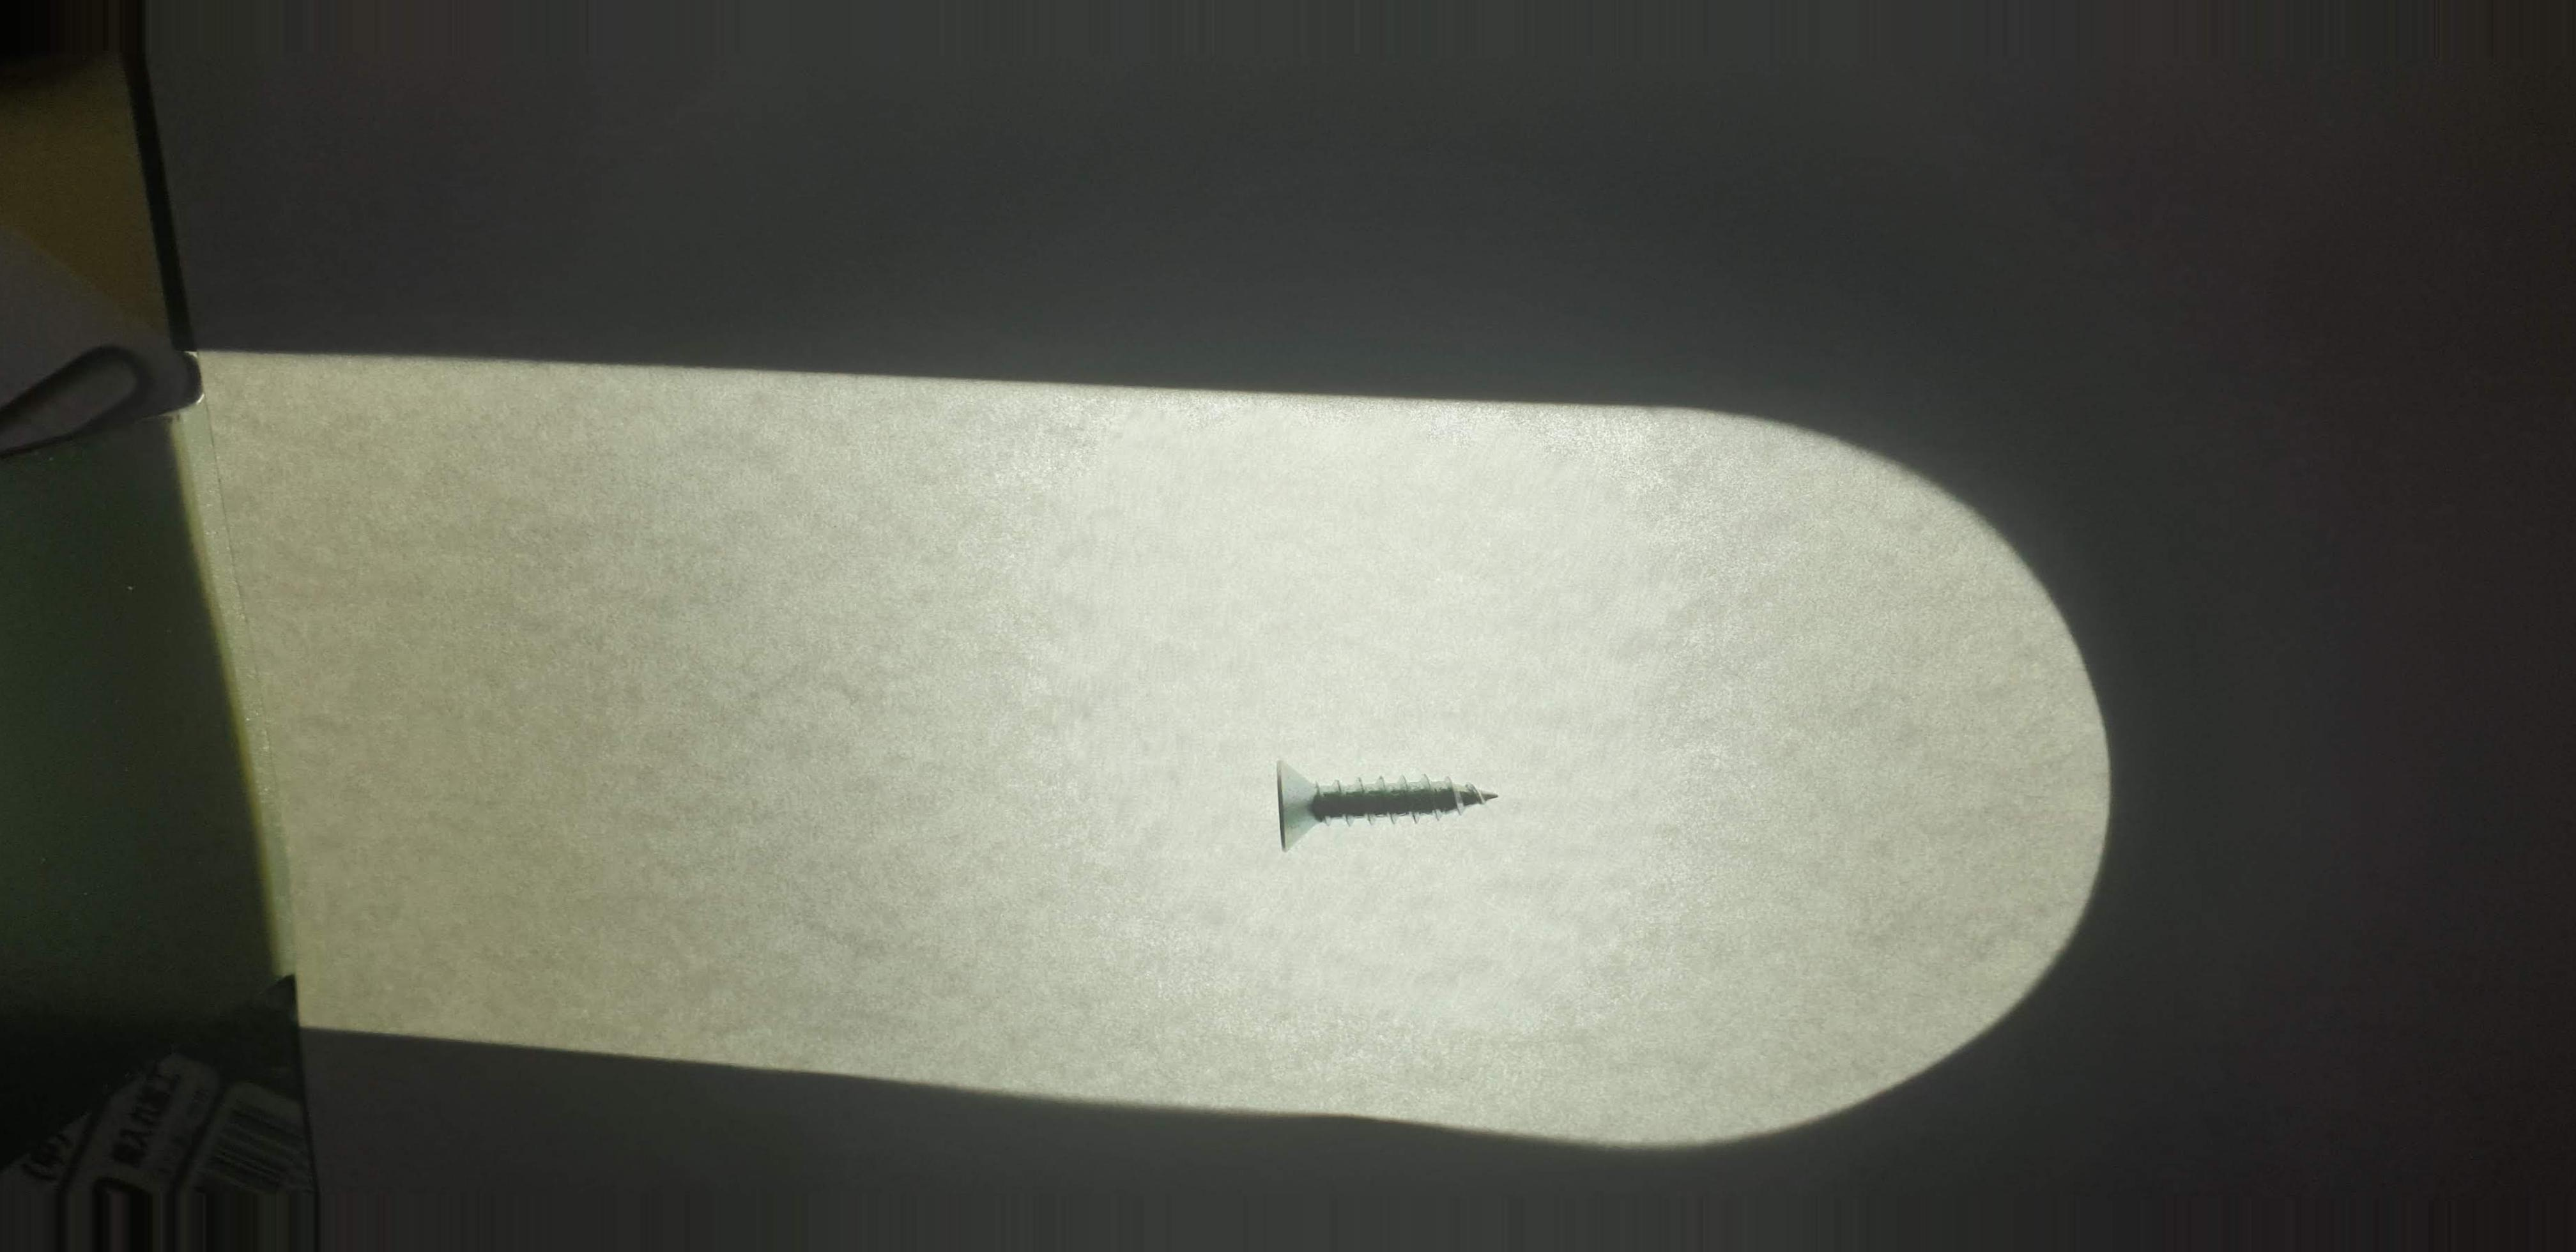S003: (1253, 733, 1539, 876)
